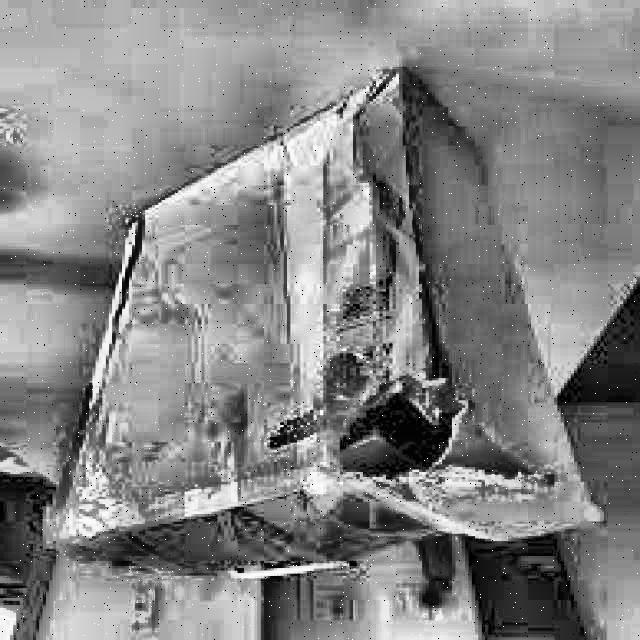box: (36, 57, 609, 606)
hole: (318, 300, 500, 494)
